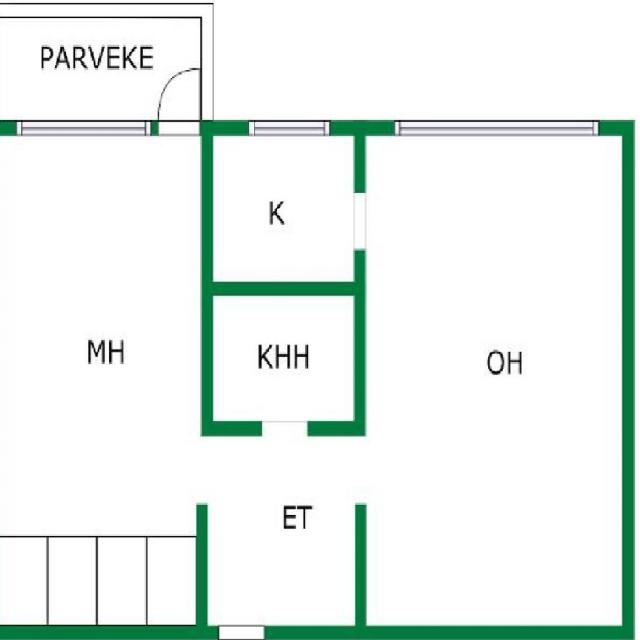door: (158, 69, 198, 135)
